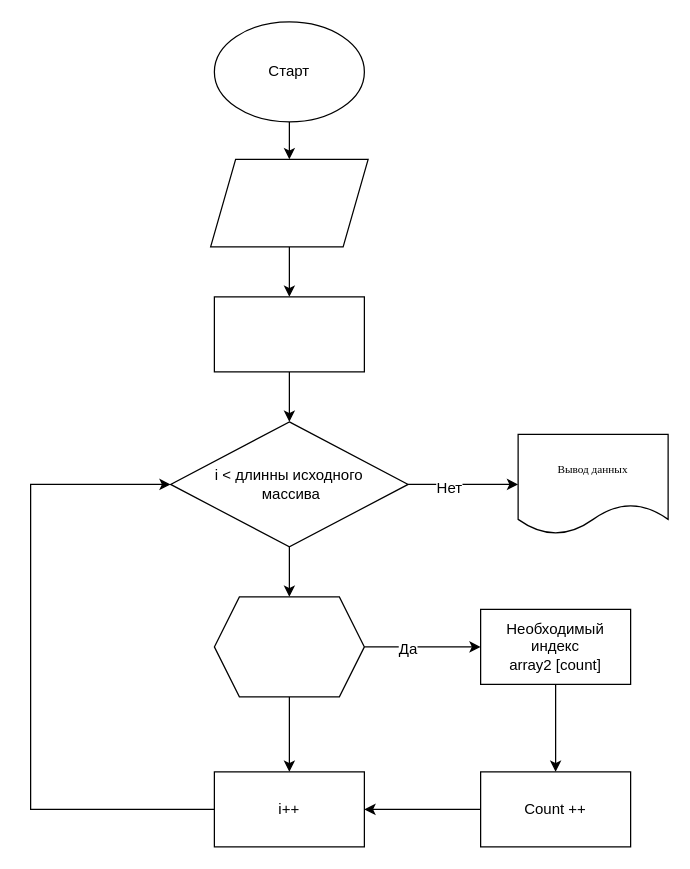
The diagram is 690 pixels wide and 869 high, and some of its shapes have lost their labels. Each missing label, with the box of its shape:
array[i].Length <= 3: (213, 596, 364, 697)
Count = 0 i = 0: (213, 296, 364, 372)
Ввод текста (символов, букв): (209, 158, 368, 247)
